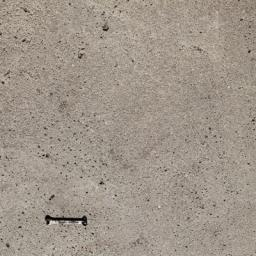FOD: (45, 213, 90, 230)
